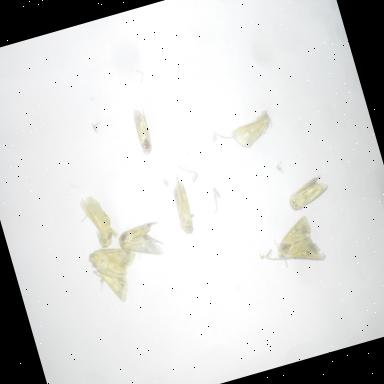abw: (254, 204, 333, 282), (79, 232, 153, 313), (111, 210, 173, 272), (70, 186, 124, 256), (162, 169, 208, 243), (223, 102, 284, 156), (278, 168, 338, 216), (122, 98, 163, 162)
